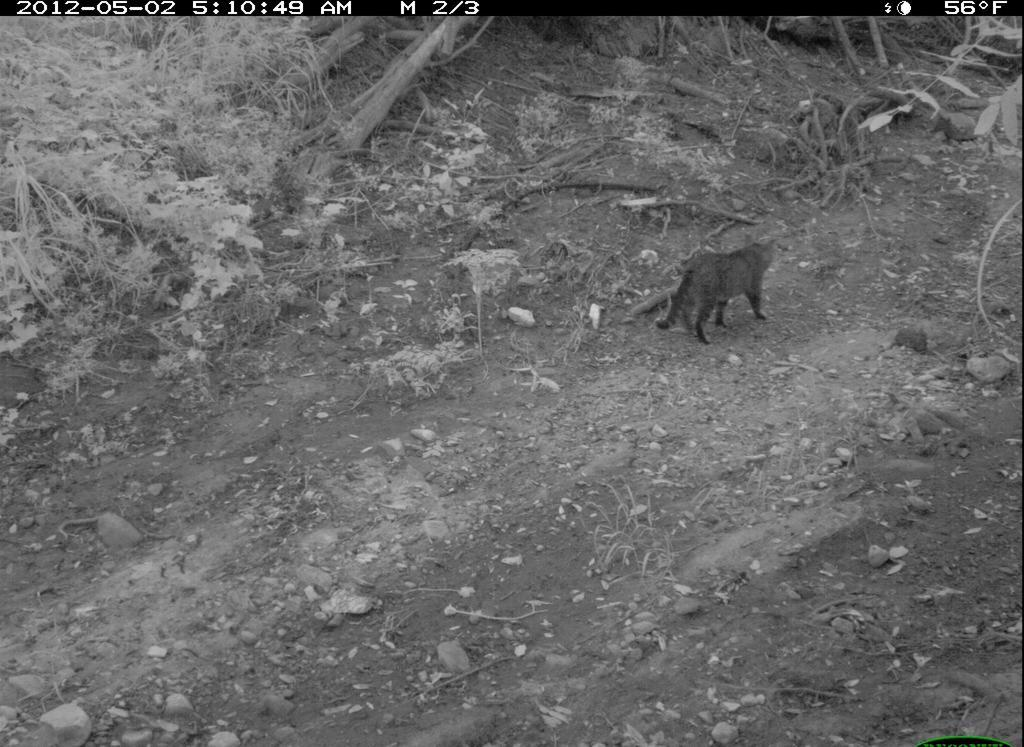cat: (655, 228, 786, 354)
